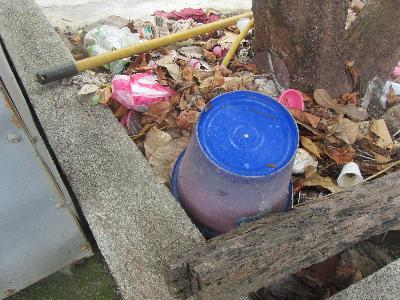bottle: (337, 161, 364, 188)
bowl: (279, 87, 306, 112)
bucket: (173, 89, 299, 233)
plastic_bag: (112, 69, 171, 113), (82, 26, 138, 54)
